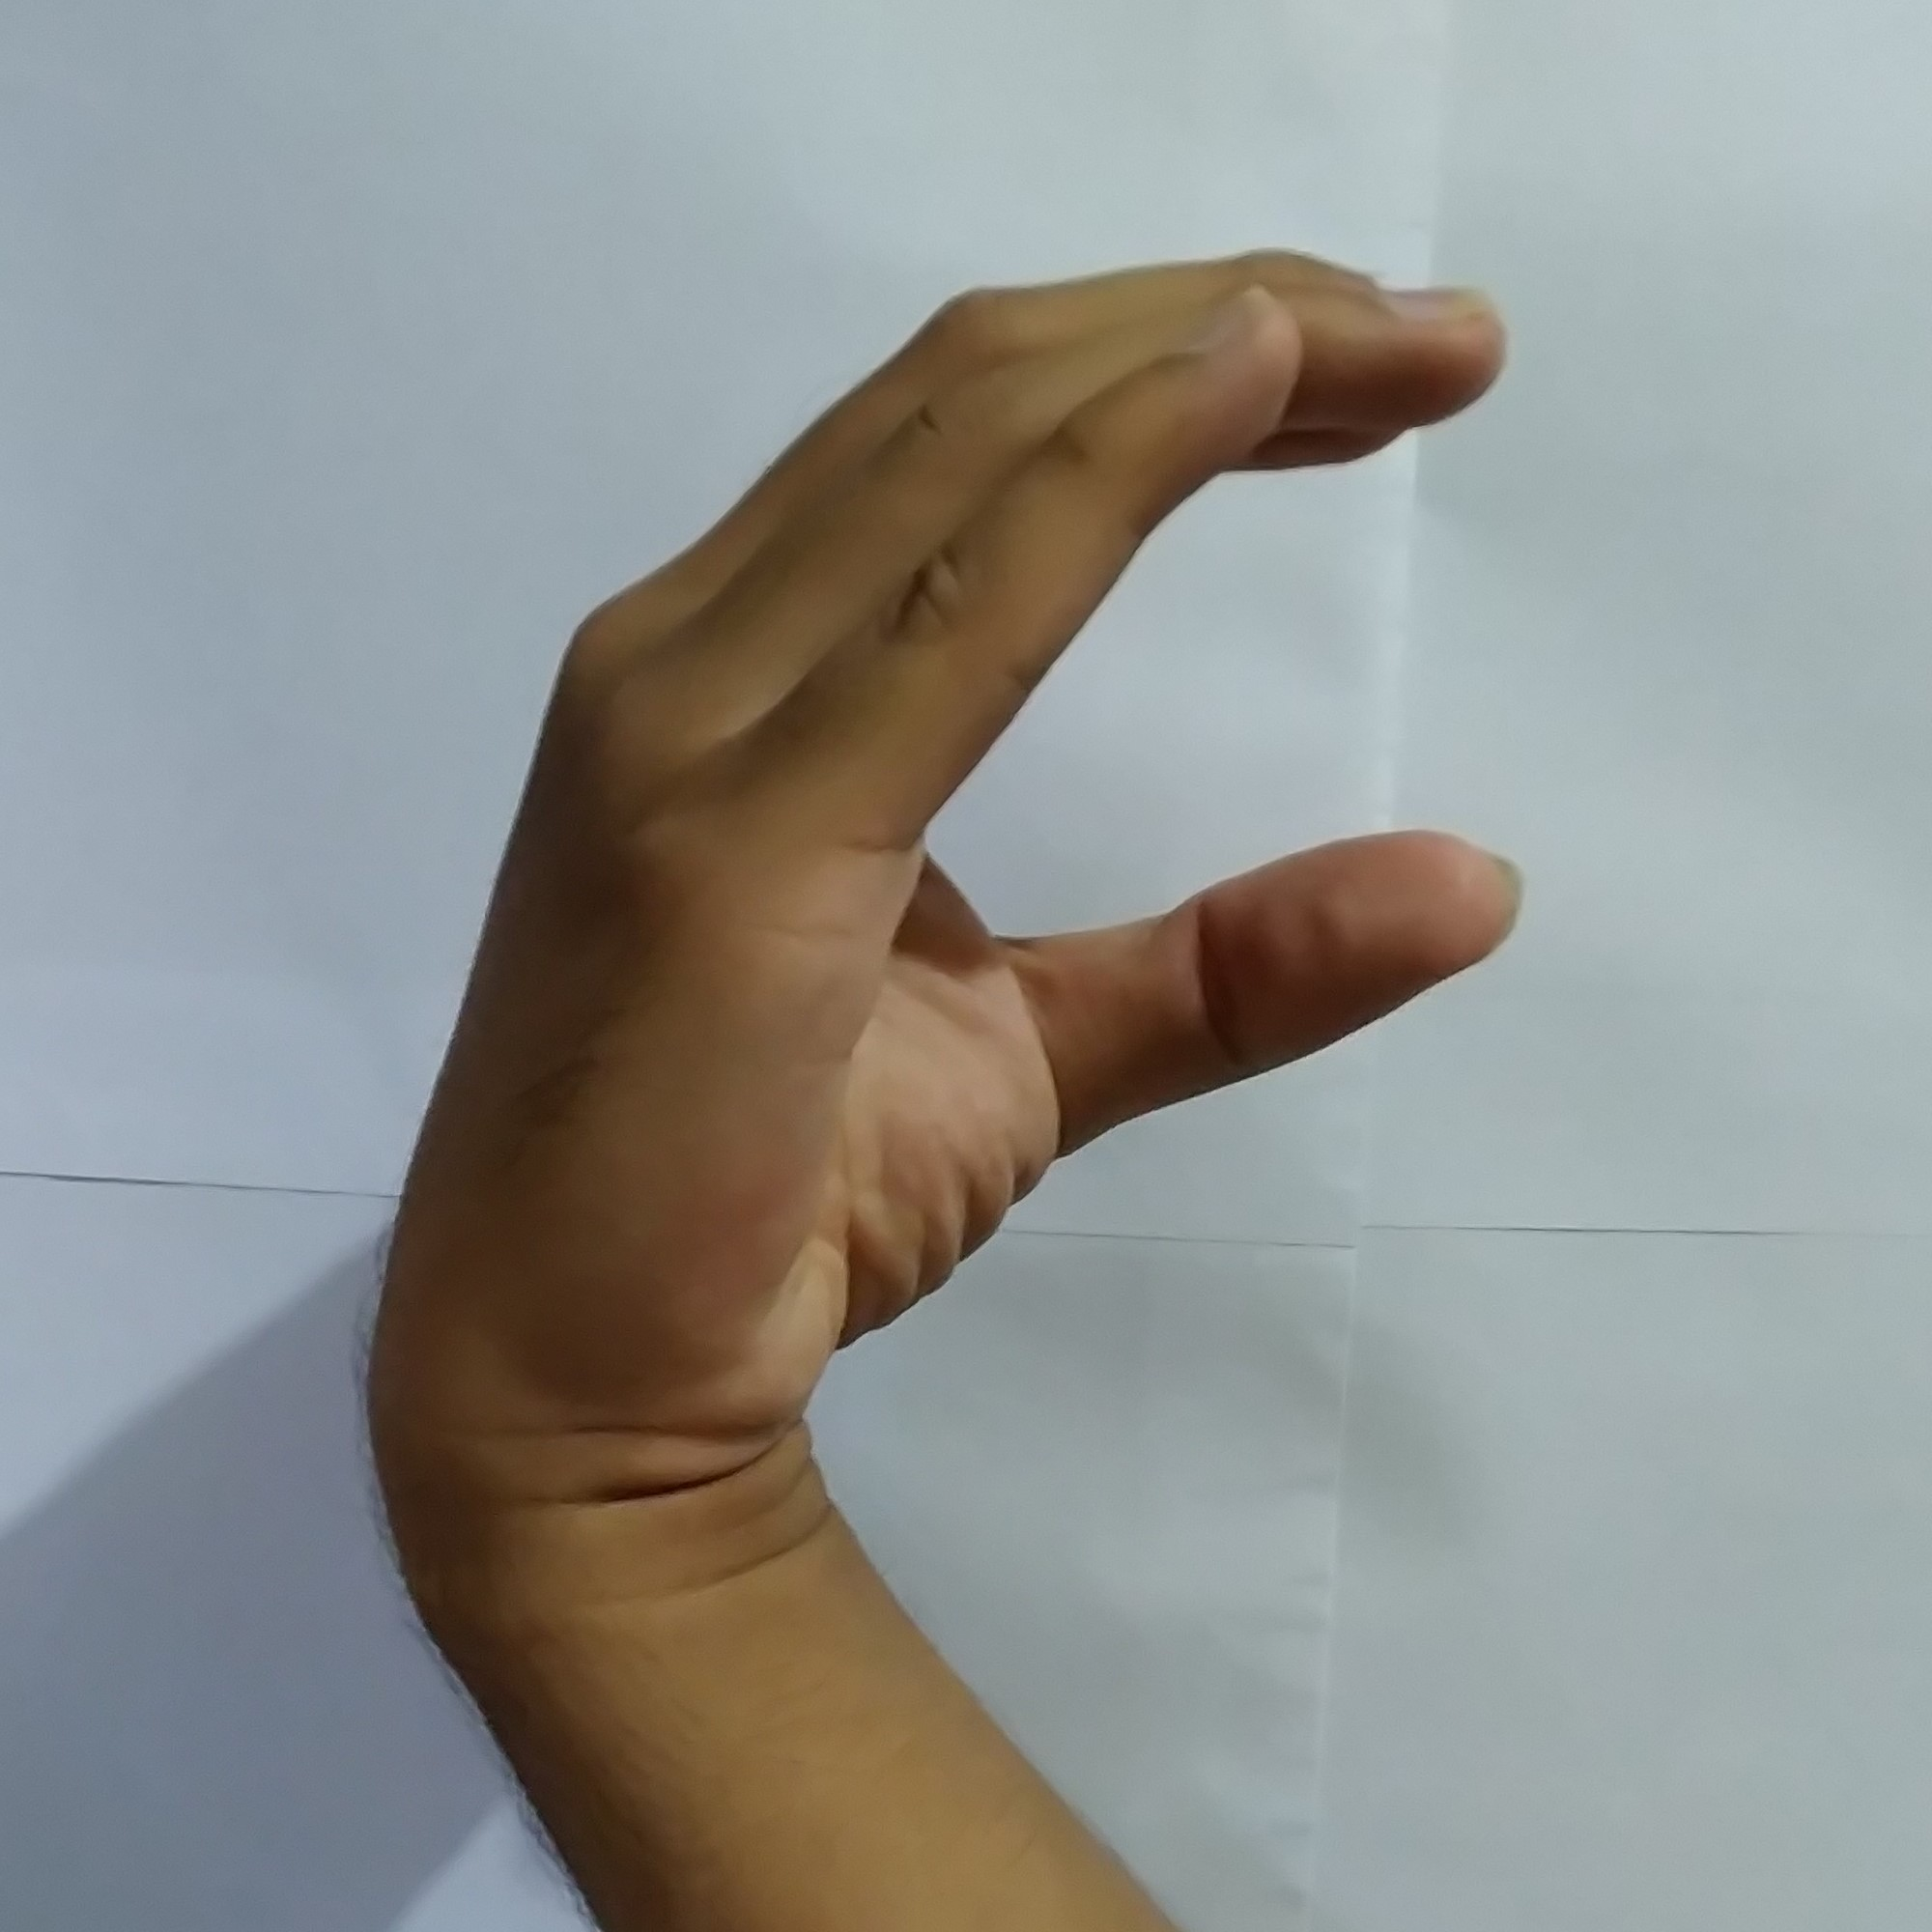C: (387, 219, 1545, 1442)
